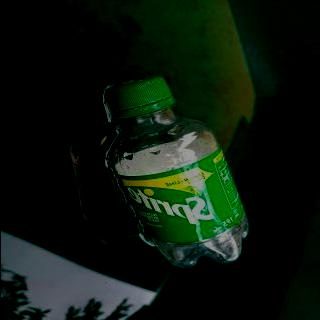bottle: (102, 75, 252, 268)
